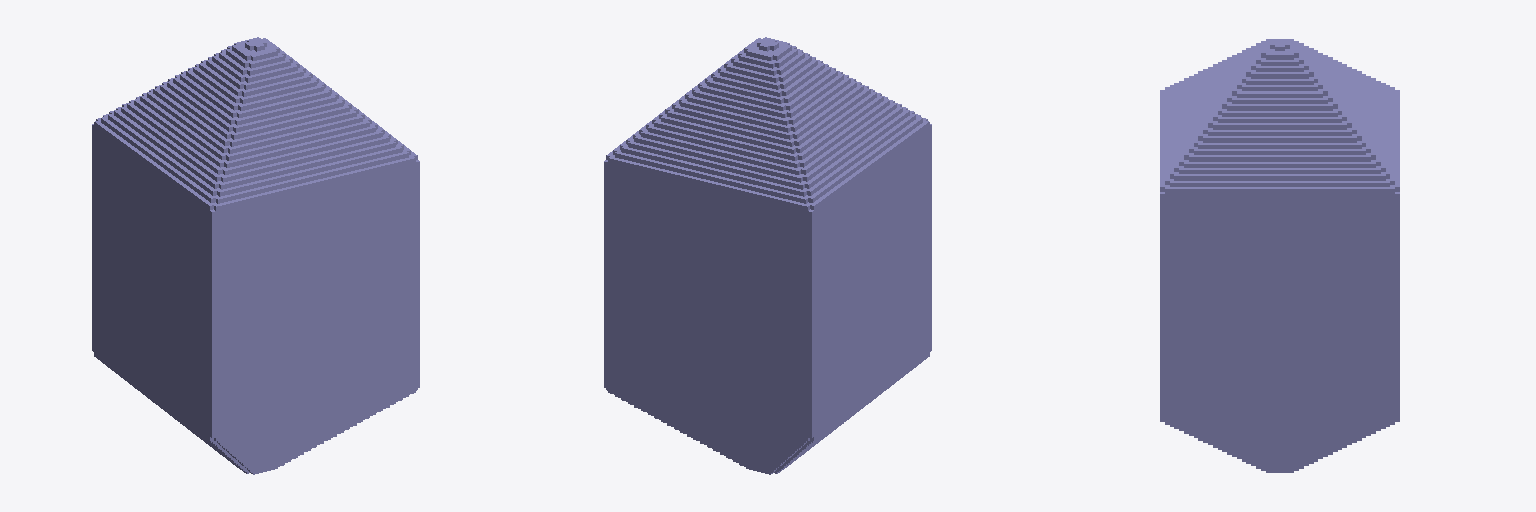
3 renders of one model, left to right at view 1: azimuth 30°, elevation 25°; view 2: azimuth 150°, elevation 25°; view 3: azimuth 270°, elevation 25°, orthographic.
Parts seen in each view (by area): view 1: object 1; view 2: object 1; view 3: object 1.
Part boxes in pixels (x1,y1,x2,y2): object 1: (92, 37, 419, 474); object 1: (604, 37, 931, 474); object 1: (1160, 39, 1399, 472).
Size of the model in its own units: 5 by 9.8 by 5.
1 materials, 1 textured.